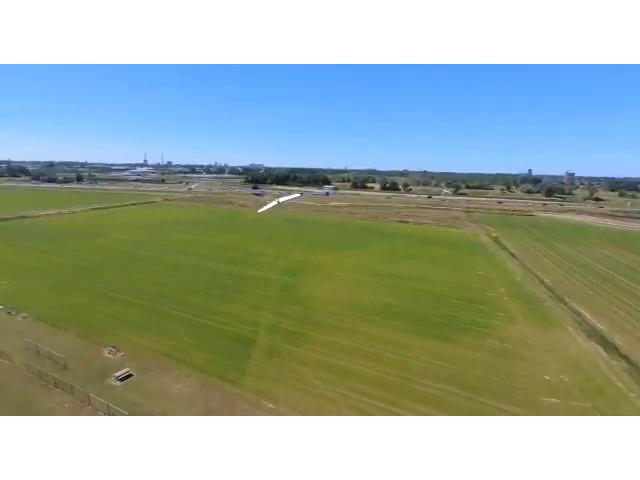Anti-Drone: (245, 182, 311, 222)
